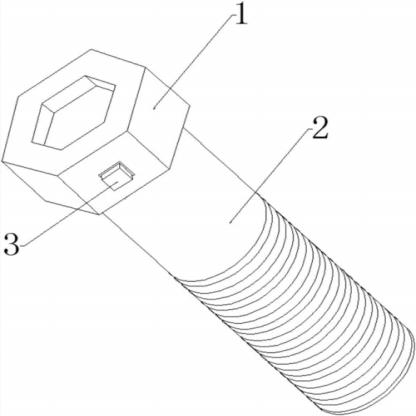FOD: (2, 44, 415, 415)
